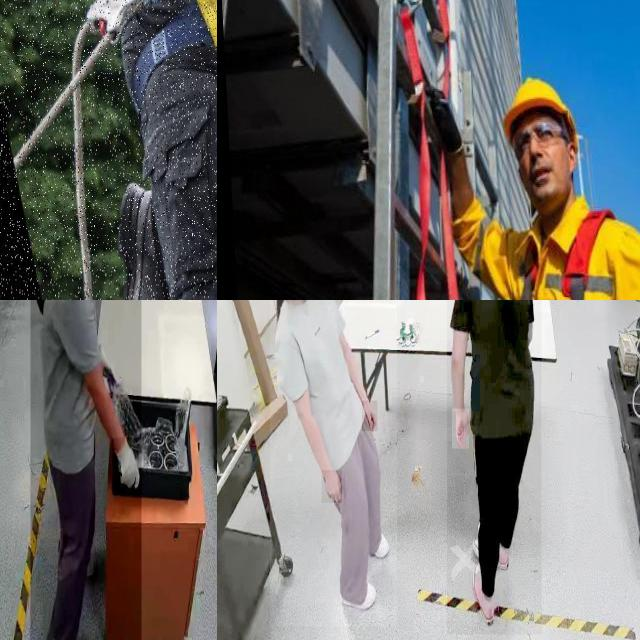Harness: (522, 210, 616, 300)
hand_glove: (112, 438, 140, 496)
hand_noglove: (452, 408, 470, 449), (322, 470, 342, 504), (362, 401, 378, 432)
person: (270, 300, 397, 627), (30, 300, 141, 640), (447, 300, 542, 635)
shoes: (471, 559, 498, 631), (468, 530, 513, 573), (338, 572, 378, 615), (367, 526, 391, 560)
